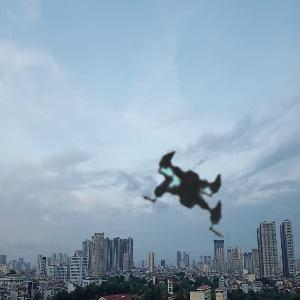drone: (107, 108, 272, 273)
